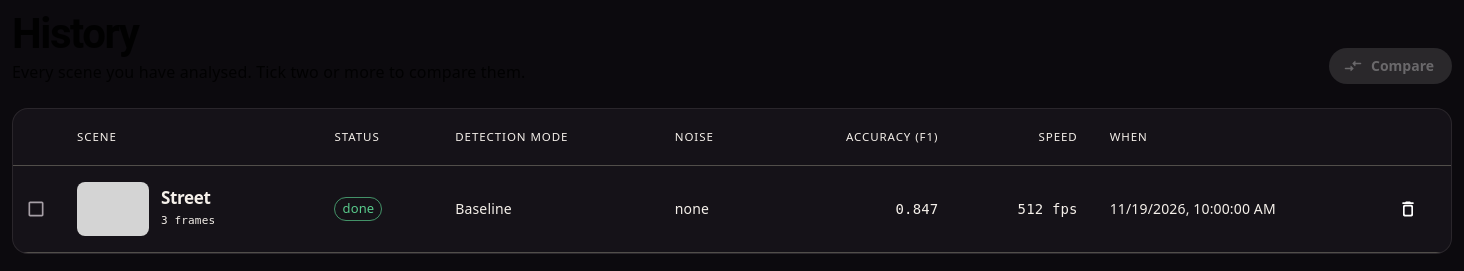
Test: History › deletes an analysis
Click the button named "delete run-a" at [1408, 209], box x1=1394 y1=194 x2=1424 y2=224
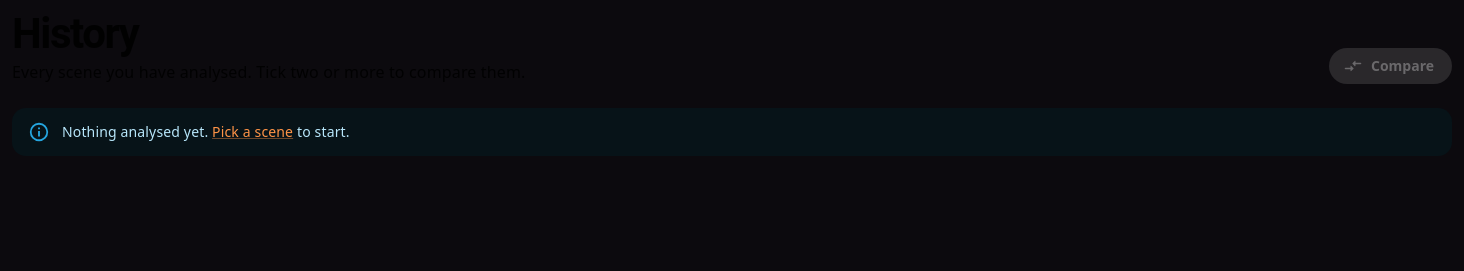
Expected: the text "Nothing analysed yet. Pick a scene to start." is shown, x1=62 y1=122 x2=350 y2=141
